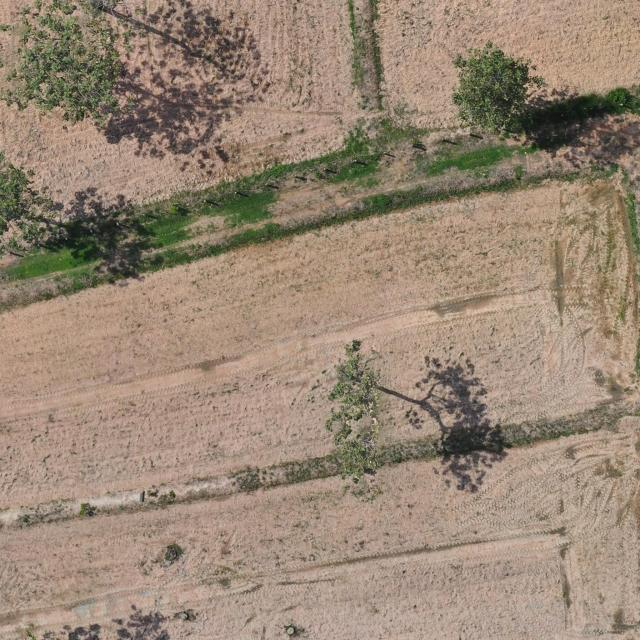Tree: (0, 0, 137, 133), (326, 340, 385, 503), (451, 39, 546, 140), (0, 148, 67, 262)
